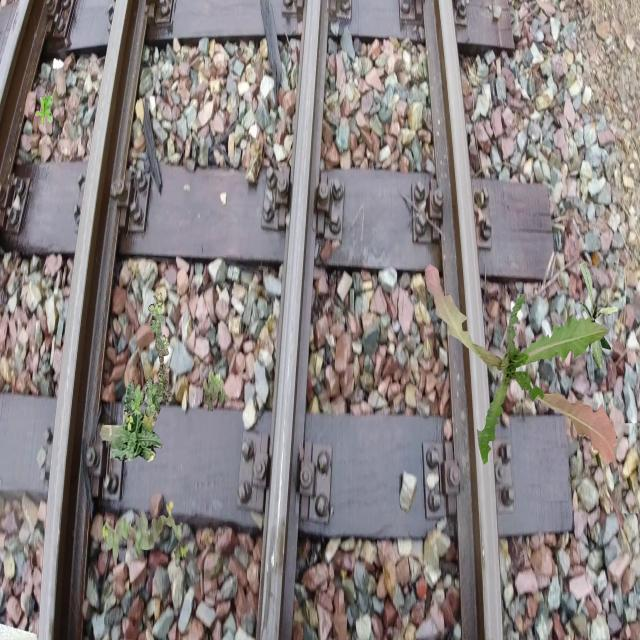Plant: (425, 264, 618, 466), (124, 293, 172, 431), (102, 500, 188, 568), (99, 379, 162, 462), (579, 261, 619, 371), (203, 369, 229, 412), (35, 93, 52, 125)
